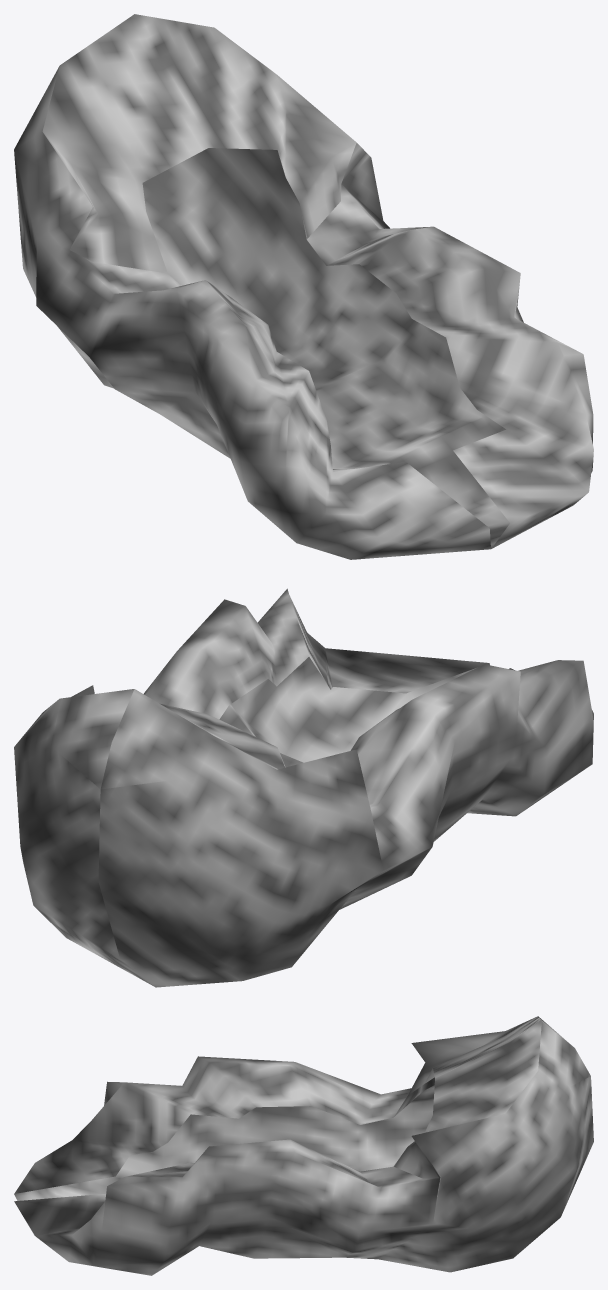
File: Wig_F_Hair_Kate.fbx
The picture shows the model from 3 angles, top to bottom: view 1: azimuth 30°, elevation 25°; view 2: azimuth 150°, elevation 25°; view 3: azimuth 270°, elevation 25°; orthographic projection. The views are drawn at different scales.
Visible parts, largest first — view 1: BoxOfJars003; view 2: BoxOfJars003; view 3: BoxOfJars003.
Part boxes in pixels (x1,y1,x2,y2): BoxOfJars003: [14, 14, 593, 559]; BoxOfJars003: [14, 588, 593, 987]; BoxOfJars003: [14, 1016, 593, 1275].
Bounding box in the file's own units: 12.89 × 11.62 × 25.81.
